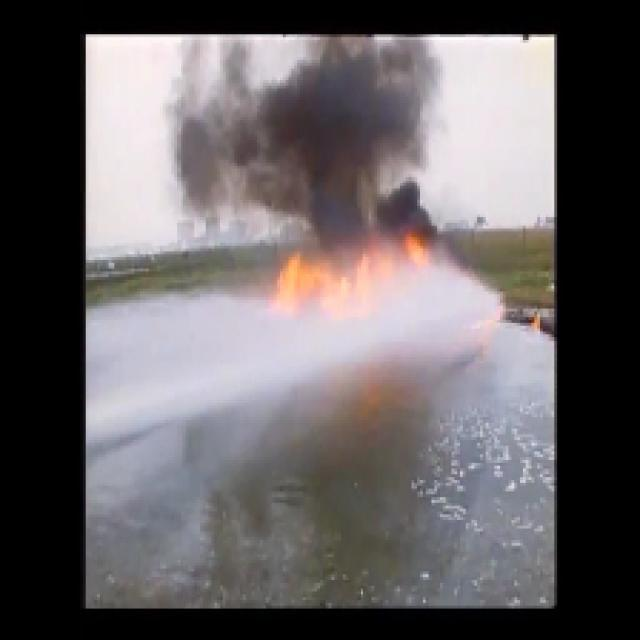Smoke: (182, 76, 386, 202)
